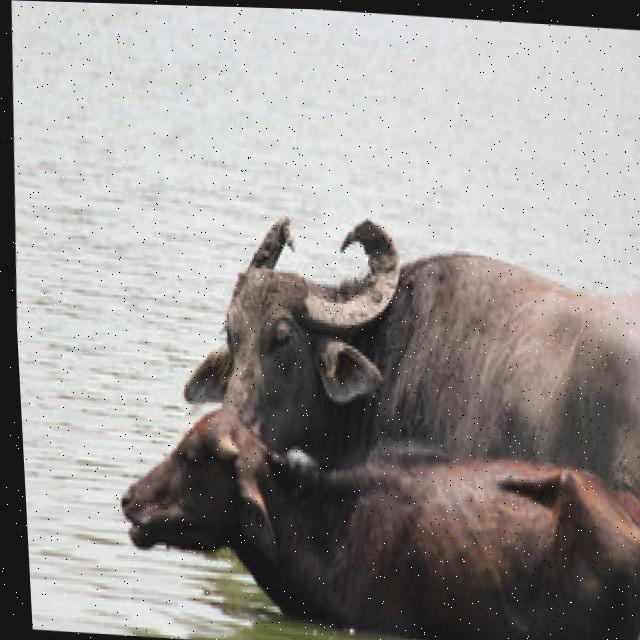Buffalo: (100, 398, 640, 640)
